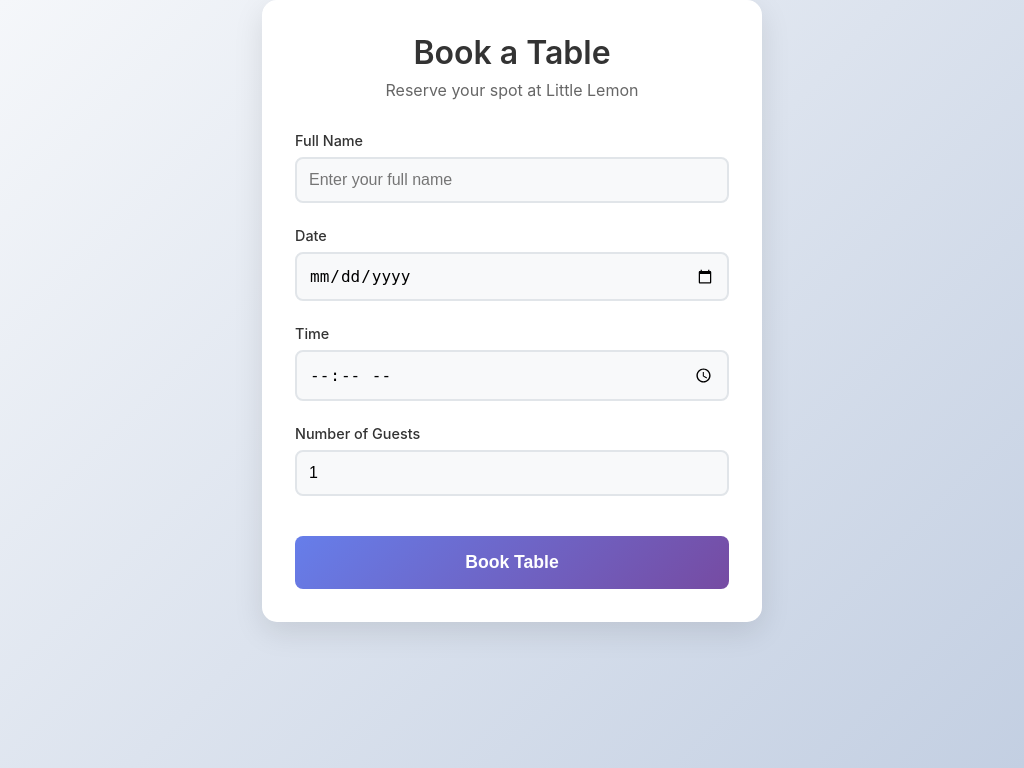
it: BookingForm › Form Validation › shows error for empty date
The image size is (1024, 768).
Type "John Doe" into the field labelled "Full Name" at (512, 180), box [295, 157, 729, 203]
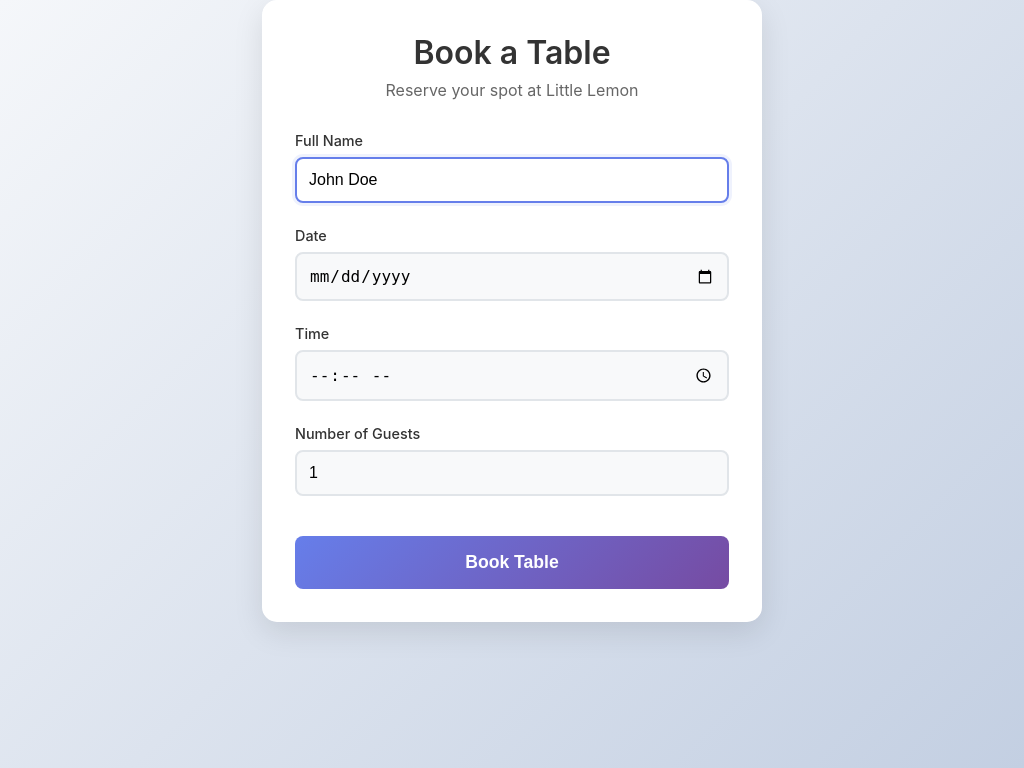
Type "19:30" into the time field labelled "Time" at (512, 375), box [295, 350, 729, 401]
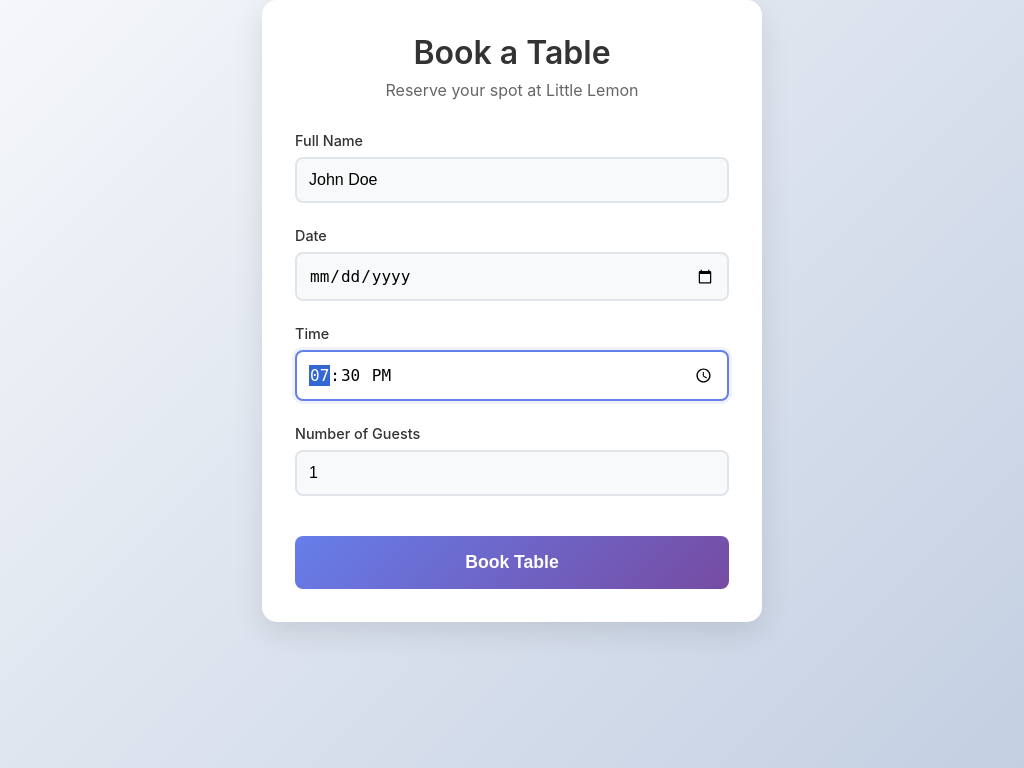
Click the button "Book Table" at (512, 562), box [295, 536, 729, 589]
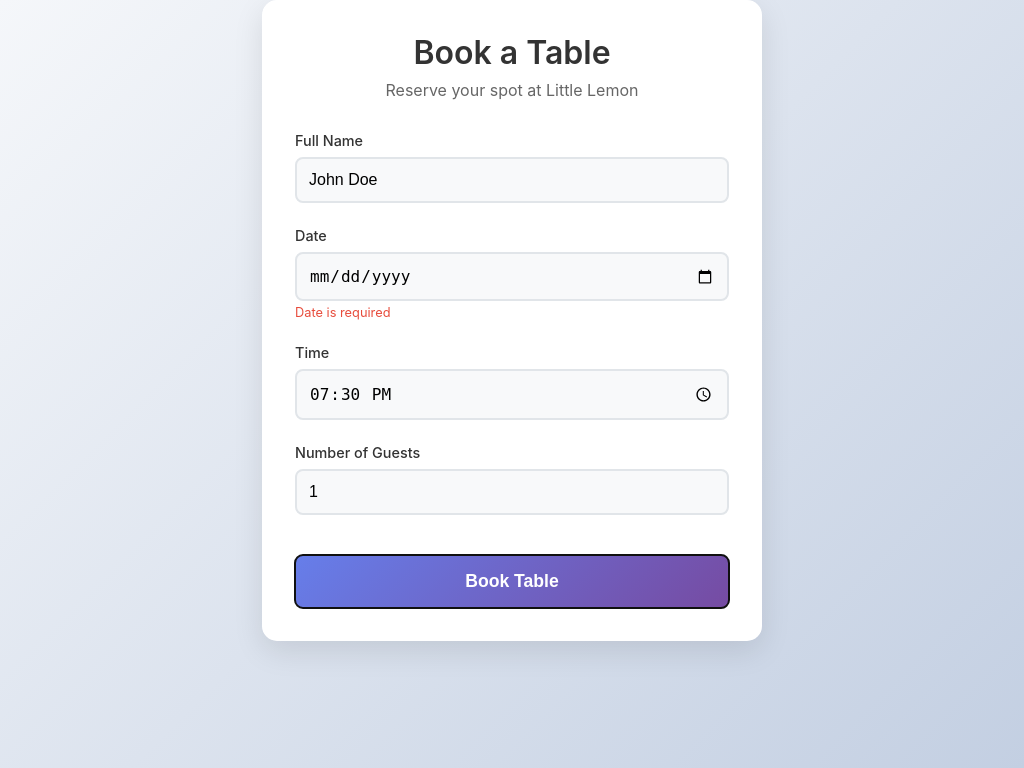
Expected: the text "Date is required" is shown, [295, 305, 390, 320]
